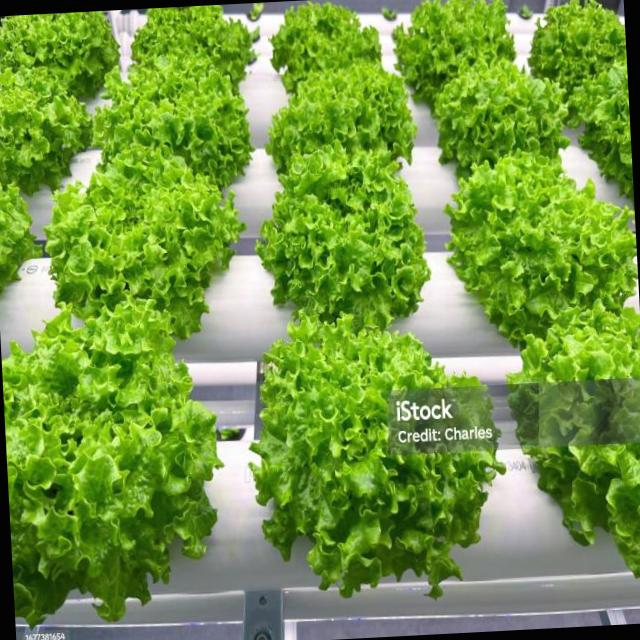Lettuce-Ready-to-Harvest: (245, 322, 508, 602), (0, 311, 221, 612), (250, 148, 450, 342), (50, 160, 244, 338), (510, 311, 640, 576), (449, 158, 640, 324), (267, 68, 423, 196), (98, 67, 259, 179), (437, 59, 566, 186), (134, 5, 258, 94), (397, 0, 513, 93), (0, 10, 119, 97), (0, 79, 102, 180), (268, 9, 390, 89), (533, 8, 626, 92), (576, 68, 633, 178)
